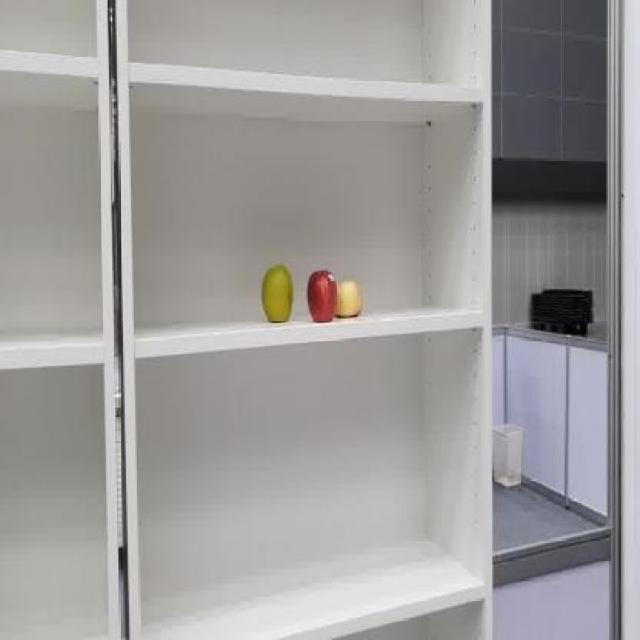Fresh Apple: (254, 263, 296, 328), (302, 272, 338, 326)
